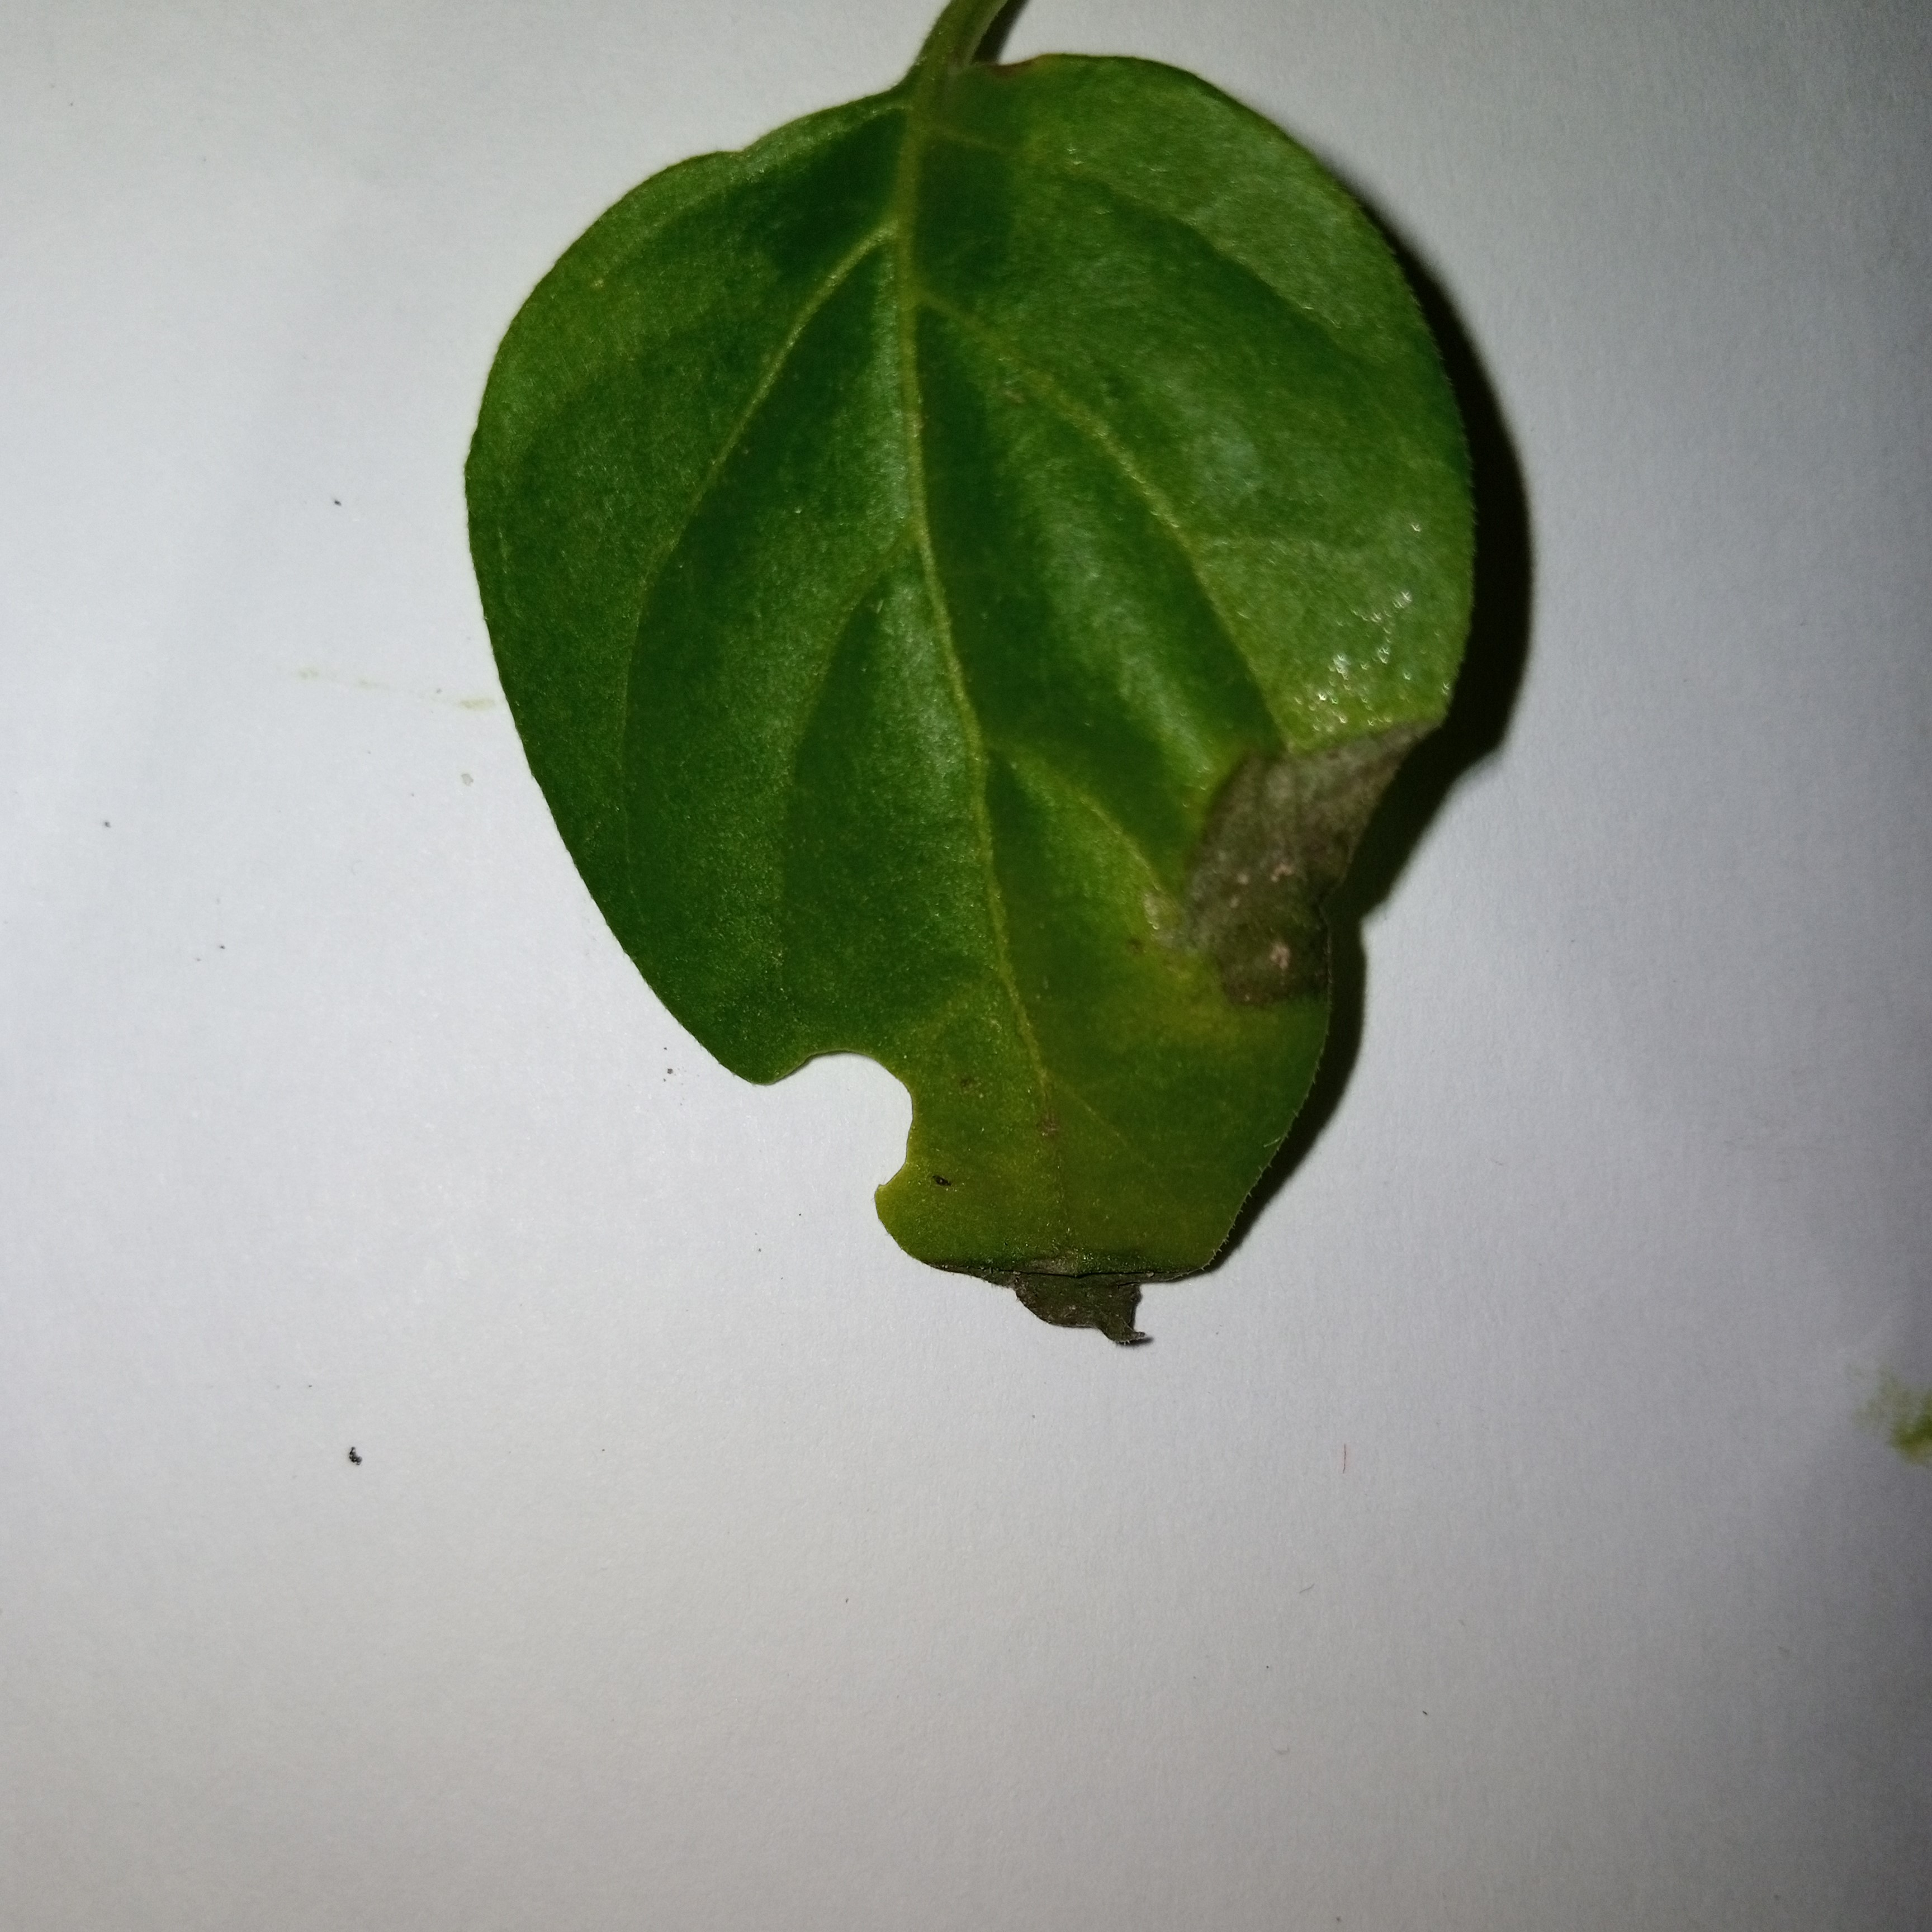Leaf: (333, 44, 1610, 1553)
